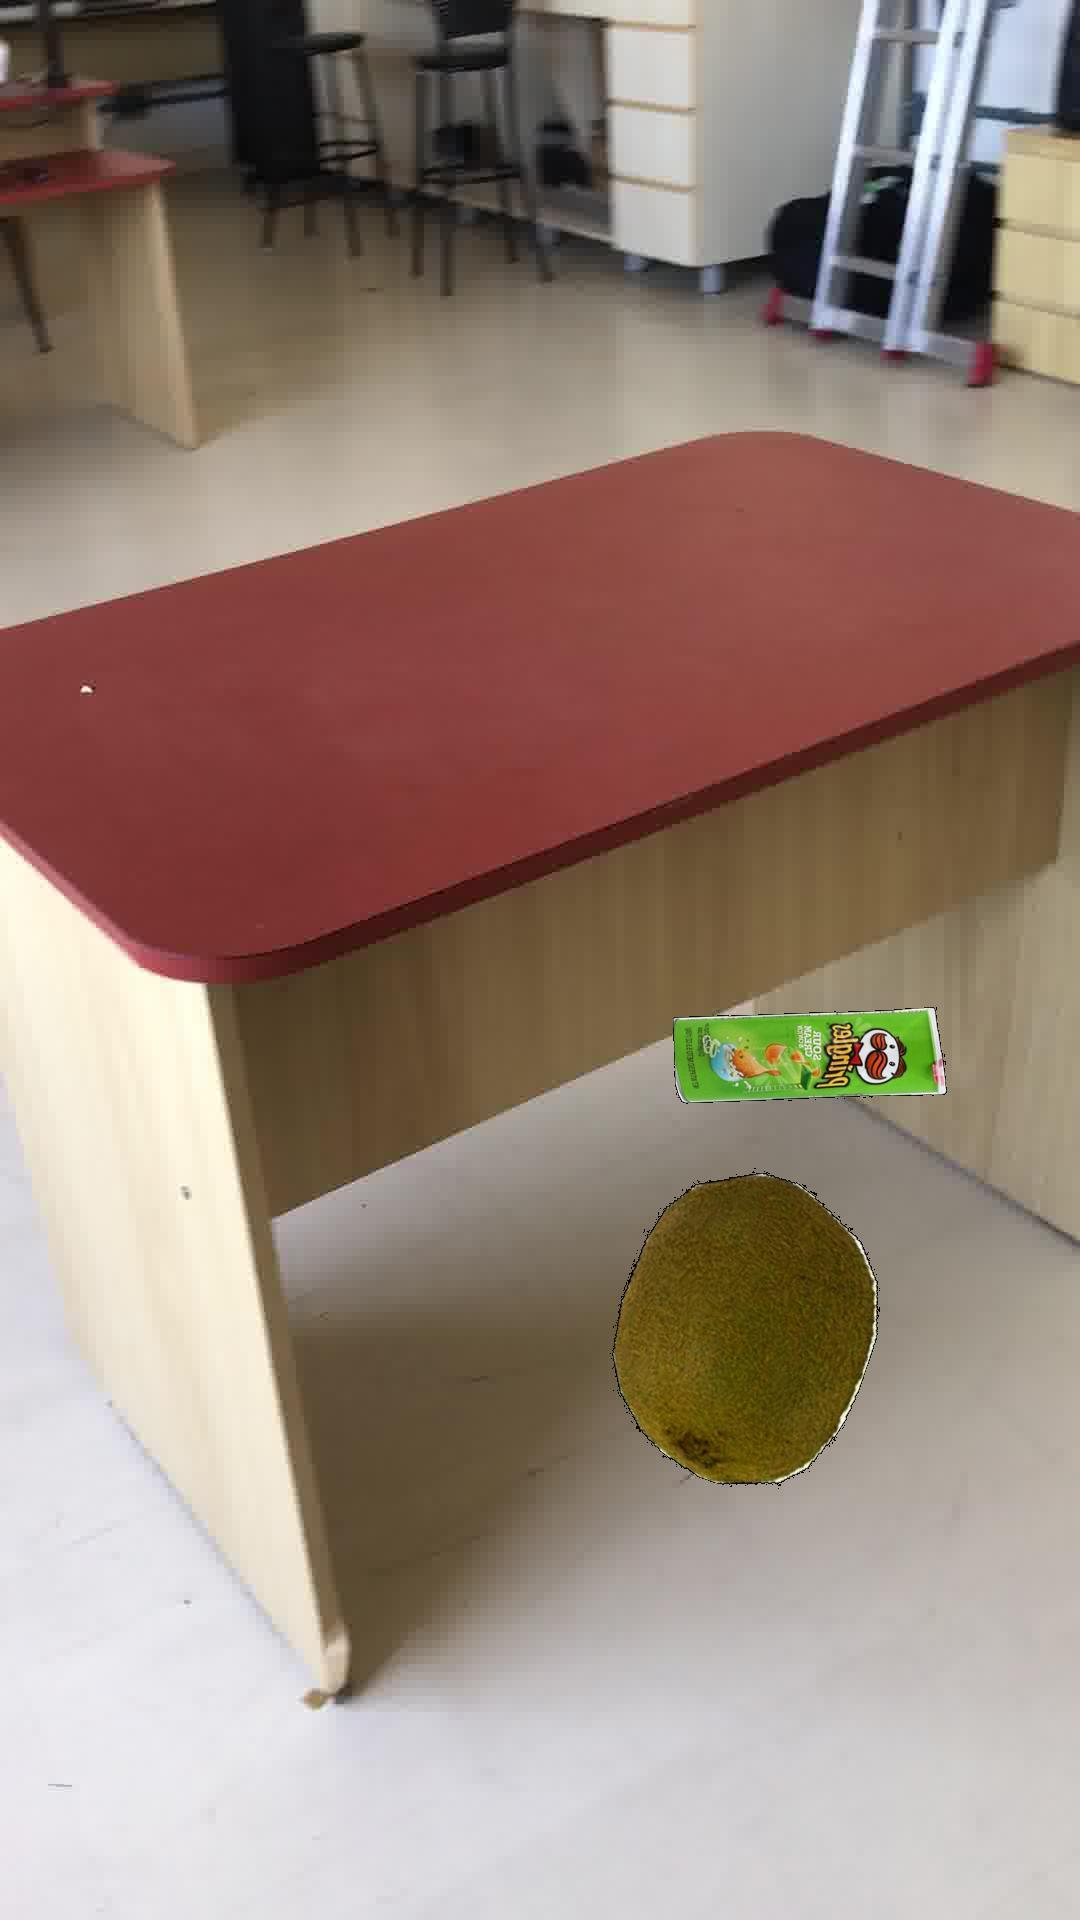kiwi: (611, 1171, 878, 1484)
pringles: (671, 1006, 945, 1102)
